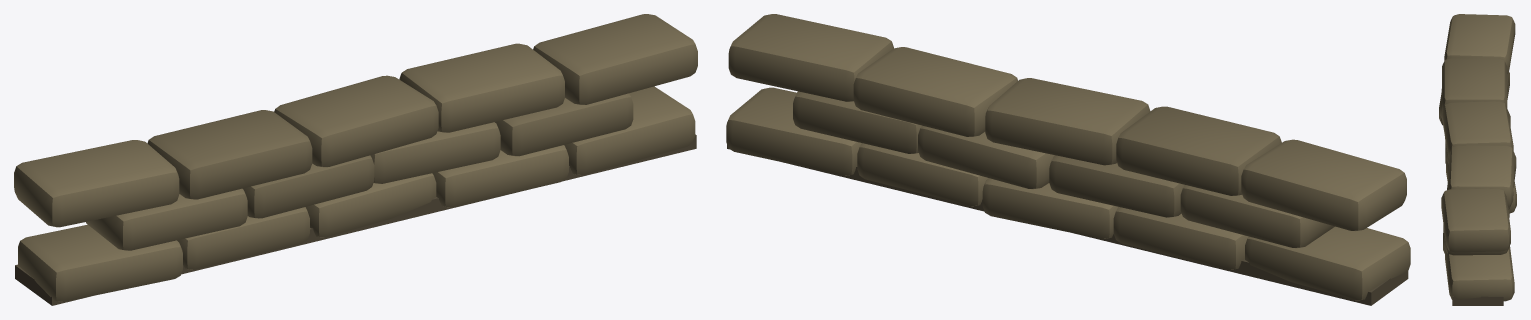
Rendered from sandbag-run.glb.
3 views of the same model, side by side, from view 1: azimuth 30°, elevation 25°; view 2: azimuth 150°, elevation 25°; view 3: azimuth 270°, elevation 25° (orthographic). The views are drawn at different scales.
Visible parts, largest first — view 1: Piece_lod0; view 2: Piece_lod0; view 3: Piece_lod0.
Part boxes in pixels (left/top/right/bottom): Piece_lod0: left=14, top=14, right=697, bottom=305; Piece_lod0: left=726, top=14, right=1410, bottom=305; Piece_lod0: left=1439, top=14, right=1516, bottom=305.
Size of what is drawn, in the model's own units: 3.02 by 0.495 by 0.4538.
